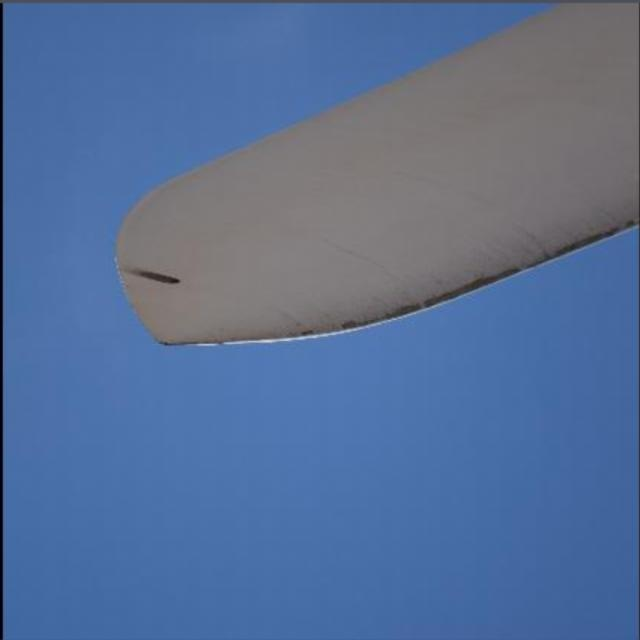Burn Mark: (126, 266, 178, 285)
EROSION: (300, 211, 640, 359)
